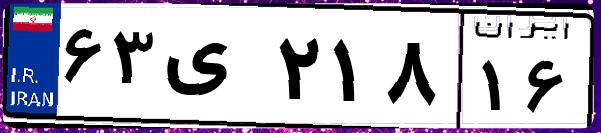1: (330, 28, 385, 110), (475, 38, 525, 113)
2: (270, 28, 330, 110)
3: (110, 28, 158, 98)
6: (57, 26, 110, 100), (525, 38, 570, 115)
8: (385, 28, 445, 110)
ی: (158, 20, 270, 120)
